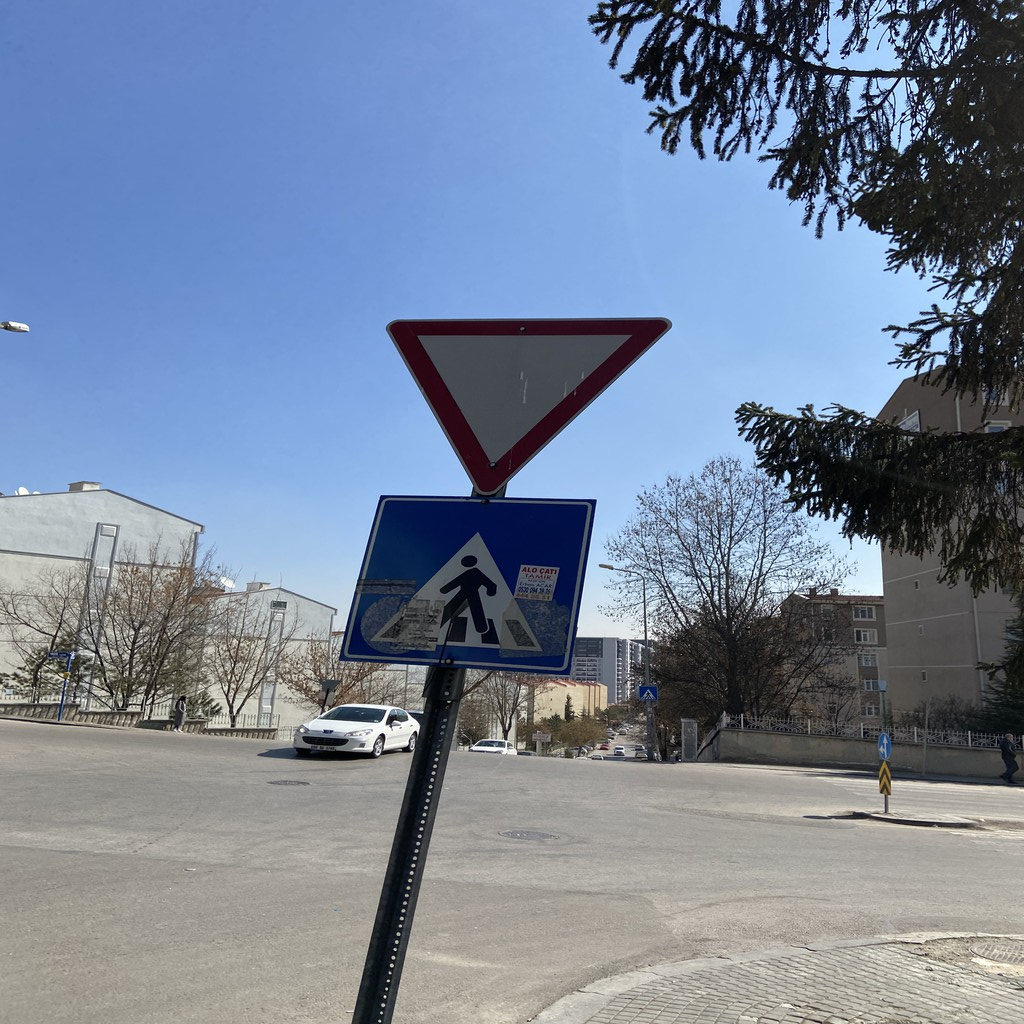Yaya Gecidi: (349, 482, 590, 667)
Yol Ver: (388, 308, 687, 496)
